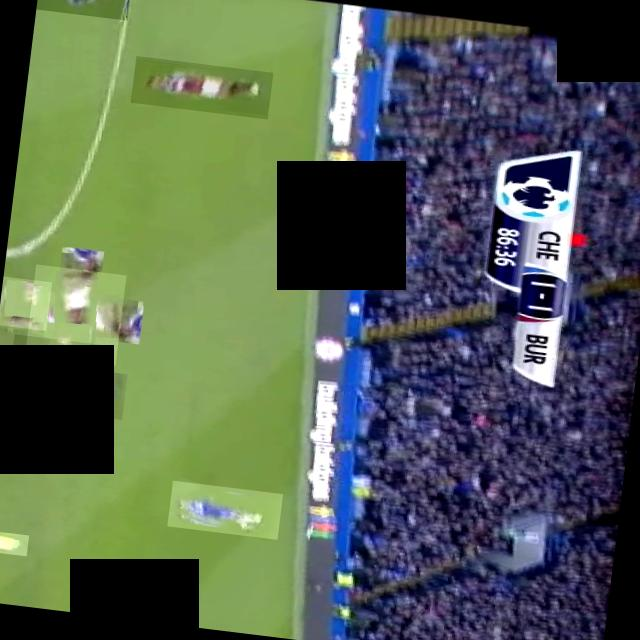ball: (0, 527, 28, 555)
soccer-player: (2, 333, 112, 442), (25, 263, 126, 364), (130, 55, 273, 118), (166, 480, 282, 539), (0, 275, 52, 330), (36, 0, 133, 19)
